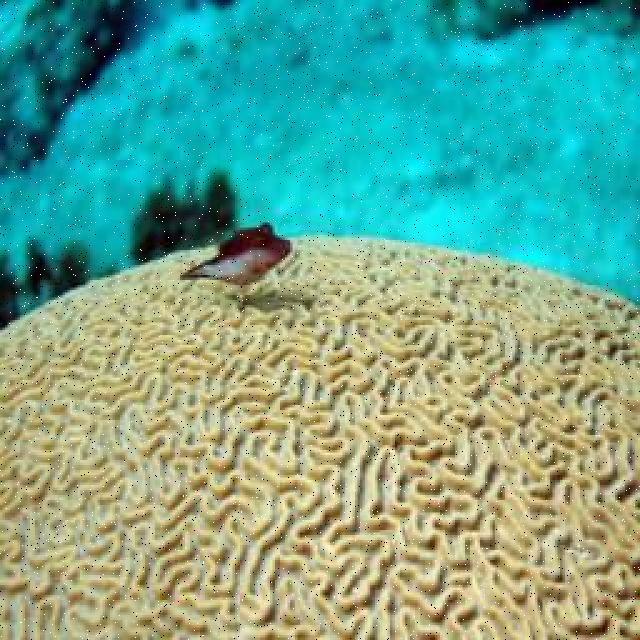fish: (179, 223, 292, 284)
reefs: (0, 234, 638, 638)
